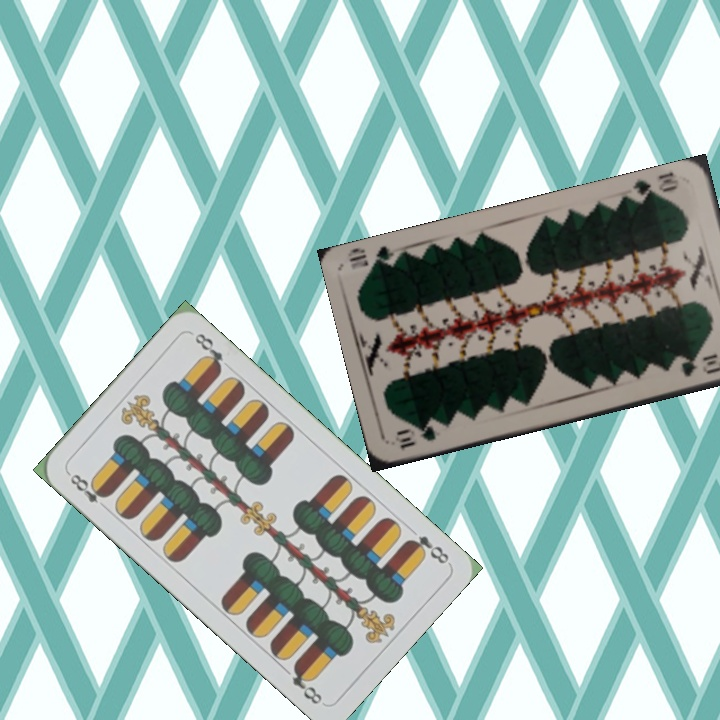E8: (63, 468, 111, 513), (402, 531, 452, 567)
G10: (629, 169, 682, 206), (391, 421, 439, 452)
